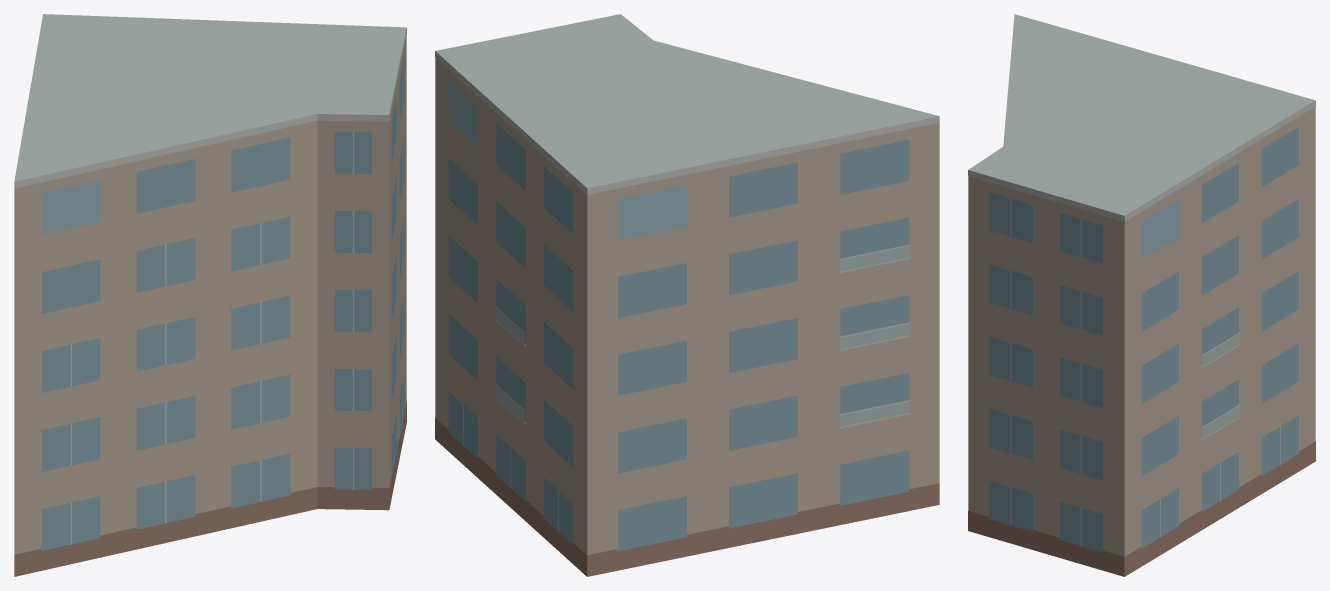
File: survey-upis-32916105.glb
3 views of the same model, side by side, from view 1: azimuth 30°, elevation 25°; view 2: azimuth 150°, elevation 25°; view 3: azimuth 270°, elevation 25° (orthographic). The views are drawn at different scales.
Visible parts, largest first — view 1: survey-upis-32916105.tmp; view 2: survey-upis-32916105.tmp; view 3: survey-upis-32916105.tmp.
Part boxes in pixels (box(x1,y1,x2,y2)): survey-upis-32916105.tmp: box(14, 14, 406, 576); survey-upis-32916105.tmp: box(435, 14, 939, 576); survey-upis-32916105.tmp: box(968, 14, 1315, 576).
Size of the model in its own units: 17.16 by 14.3 by 12.49.
